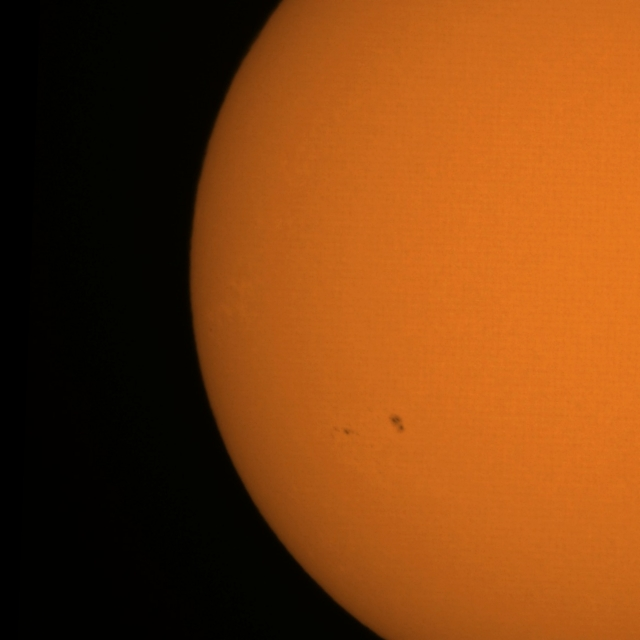sunspot: (388, 412, 406, 434), (332, 425, 362, 437)
